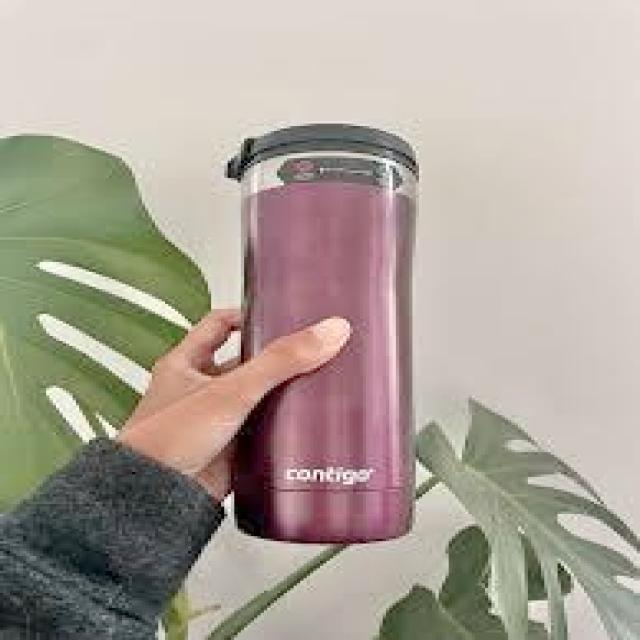bottle: (237, 125, 419, 540)
